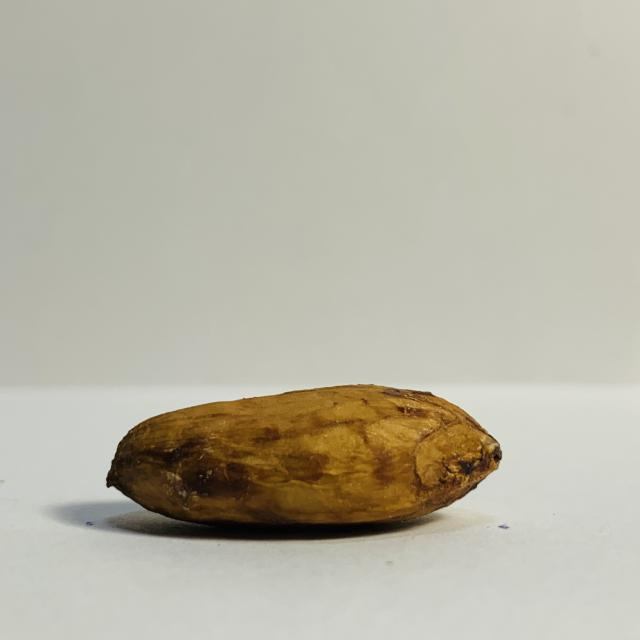Fine_cocoabeans: (46, 354, 568, 570)
